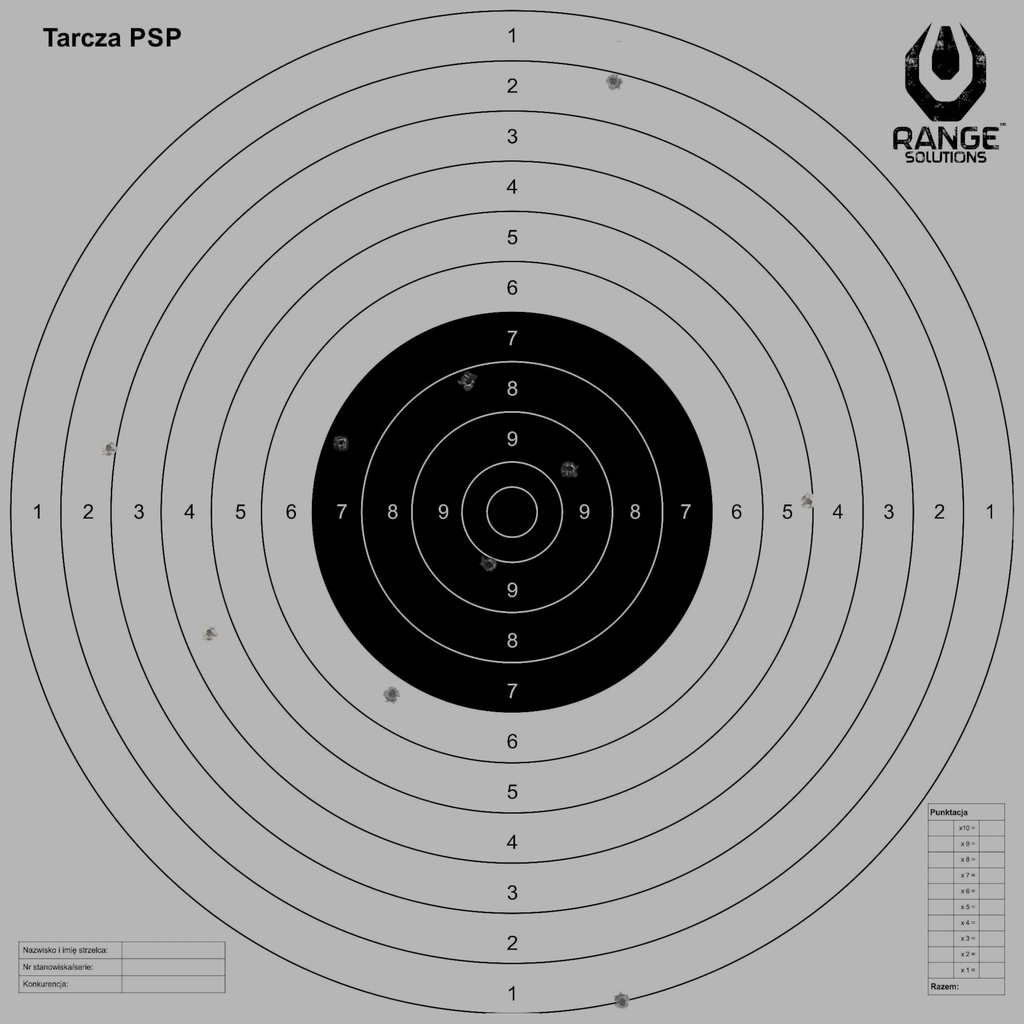0 punktow: (0, 0, 15, 10)
1 punkt: (613, 992, 631, 1011)
10 punktow: (480, 555, 498, 574)
2 punkty: (604, 72, 623, 91)
3 punkty: (100, 439, 118, 457)
4 punkty: (200, 624, 219, 642)
5 punktow: (799, 492, 818, 511)
6 punktow: (383, 685, 401, 703)
7 punktow: (332, 433, 351, 452)
8 punktow: (459, 372, 478, 390)
9 punktow: (561, 460, 579, 478)
